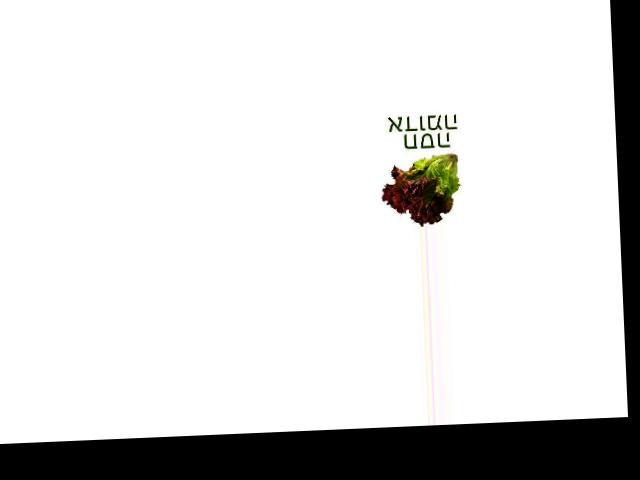lettuce: (378, 150, 469, 228)
